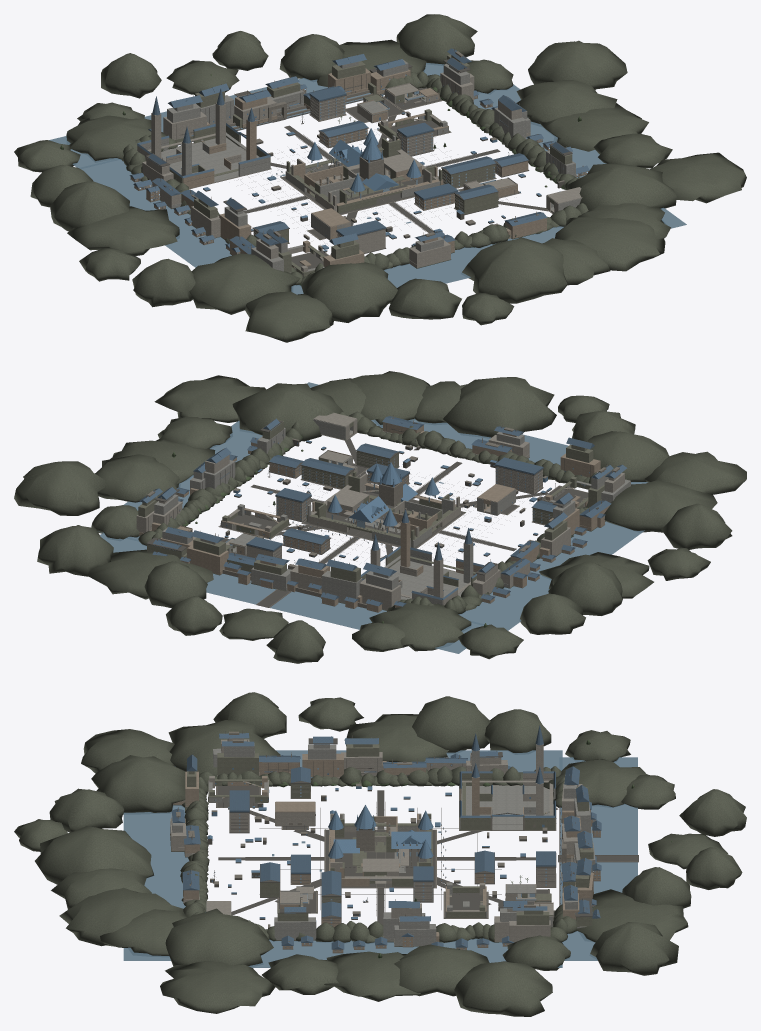
Rendered from takadai-lod0.glb.
3 renders of one model, top to bottom at view 1: azimuth 30°, elevation 25°; view 2: azimuth 150°, elevation 25°; view 3: azimuth 270°, elevation 25°, orthographic. The views are drawn at different scales.
Visible parts, largest first — view 1: HB_takadai_LOD0_terrain, HB_takadai_LOD0_water, HB_takadai_LOD0_roof, HB_takadai_LOD0_wall, HB_takadai_LOD0_wall_warm, HB_takadai_LOD0_wall_cool, HB_takadai_LOD0_wall_weathered, HB_takadai_LOD0_trim, HB_takadai_LOD0_road, HB_takadai_LOD0_wall_alt, HB_takadai_LOD0_LANDMARK_1_wall_cool, HB_takadai_LOD0_LANDMARK_0_accent (+11 smaller); view 2: HB_takadai_LOD0_terrain, HB_takadai_LOD0_water, HB_takadai_LOD0_roof, HB_takadai_LOD0_wall, HB_takadai_LOD0_wall_warm, HB_takadai_LOD0_wall_cool, HB_takadai_LOD0_wall_weathered, HB_takadai_LOD0_trim, HB_takadai_LOD0_road, HB_takadai_LOD0_wall_alt, HB_takadai_LOD0_LANDMARK_1_wall_cool, HB_takadai_LOD0_LANDMARK_0_accent (+11 smaller); view 3: HB_takadai_LOD0_terrain, HB_takadai_LOD0_water, HB_takadai_LOD0_roof, HB_takadai_LOD0_wall, HB_takadai_LOD0_road, HB_takadai_LOD0_wall_cool, HB_takadai_LOD0_wall_warm, HB_takadai_LOD0_wall_weathered, HB_takadai_LOD0_trim, HB_takadai_LOD0_wall_alt, HB_takadai_LOD0_LANDMARK_1_wall_cool, HB_takadai_LOD0_LANDMARK_0_accent (+8 smaller).
Boxes of the visible parts, box(x1,y1,x2,y2) form: HB_takadai_LOD0_terrain: box(14, 14, 746, 342); HB_takadai_LOD0_water: box(49, 62, 686, 294); HB_takadai_LOD0_roof: box(129, 48, 589, 254); HB_takadai_LOD0_wall: box(142, 64, 582, 271); HB_takadai_LOD0_wall_warm: box(130, 68, 588, 267); HB_takadai_LOD0_wall_cool: box(167, 59, 581, 273); HB_takadai_LOD0_wall_weathered: box(174, 54, 572, 276); HB_takadai_LOD0_trim: box(135, 57, 588, 276); HB_takadai_LOD0_road: box(180, 87, 551, 269); HB_takadai_LOD0_wall_alt: box(130, 47, 586, 257); HB_takadai_LOD0_LANDMARK_1_wall_cool: box(140, 132, 270, 182); HB_takadai_LOD0_LANDMARK_0_accent: box(307, 128, 421, 191); HB_takadai_LOD0_terrain: box(14, 371, 746, 663); HB_takadai_LOD0_water: box(98, 382, 647, 653); HB_takadai_LOD0_roof: box(139, 416, 626, 606); HB_takadai_LOD0_wall: box(136, 412, 624, 610); HB_takadai_LOD0_wall_warm: box(139, 422, 609, 612); HB_takadai_LOD0_wall_cool: box(154, 419, 630, 603); HB_takadai_LOD0_wall_weathered: box(138, 420, 604, 582); HB_takadai_LOD0_trim: box(146, 419, 604, 602); HB_takadai_LOD0_road: box(218, 432, 588, 607); HB_takadai_LOD0_wall_alt: box(146, 415, 619, 612); HB_takadai_LOD0_LANDMARK_1_wall_cool: box(384, 541, 473, 605); HB_takadai_LOD0_LANDMARK_0_accent: box(328, 462, 439, 526); HB_takadai_LOD0_terrain: box(14, 692, 746, 1016); HB_takadai_LOD0_water: box(123, 750, 637, 967); HB_takadai_LOD0_roof: box(172, 733, 601, 949); HB_takadai_LOD0_wall: box(170, 738, 582, 946); HB_takadai_LOD0_road: box(213, 784, 638, 927); HB_takadai_LOD0_wall_cool: box(171, 743, 595, 946); HB_takadai_LOD0_wall_warm: box(173, 753, 600, 952); HB_takadai_LOD0_wall_weathered: box(185, 744, 593, 926); HB_takadai_LOD0_trim: box(176, 738, 599, 950); HB_takadai_LOD0_wall_alt: box(176, 730, 638, 953); HB_takadai_LOD0_LANDMARK_1_wall_cool: box(460, 750, 555, 830); HB_takadai_LOD0_LANDMARK_0_accent: box(328, 805, 433, 858).
Bounding box in the file's own units: 675 × 68.88 × 670.
15 materials, 12 textured.
